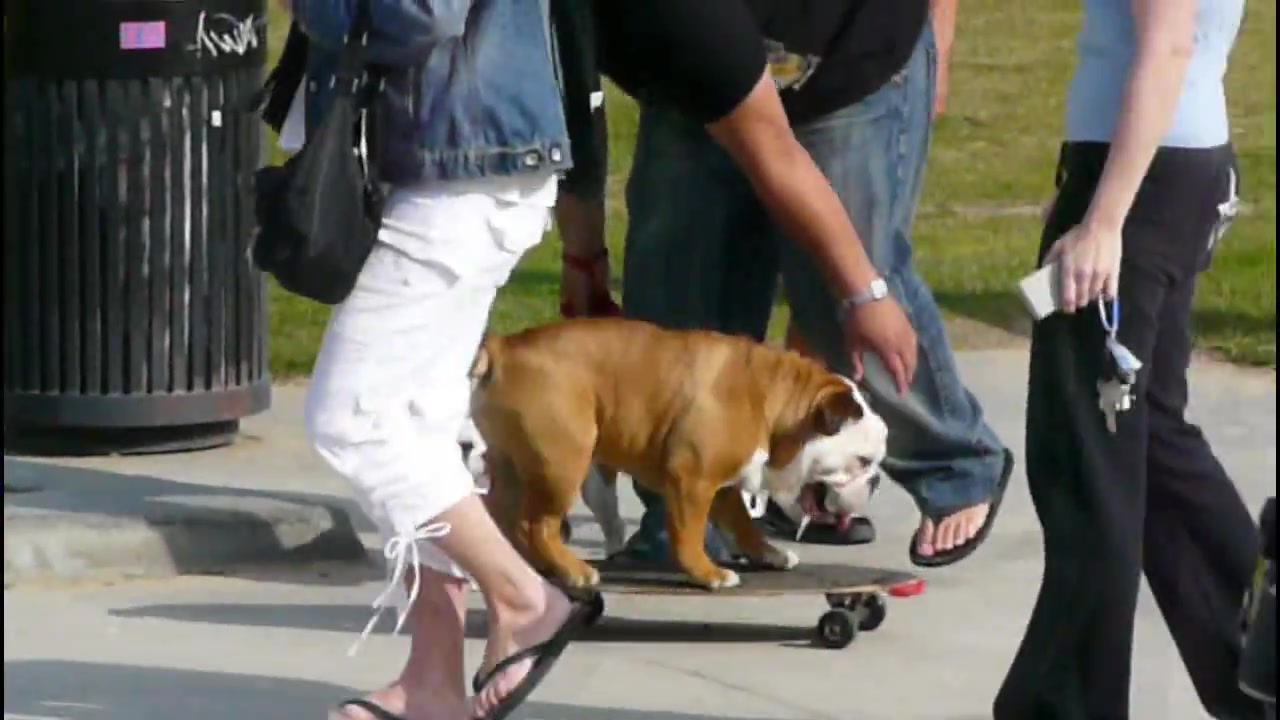dog: (477, 325, 894, 581)
